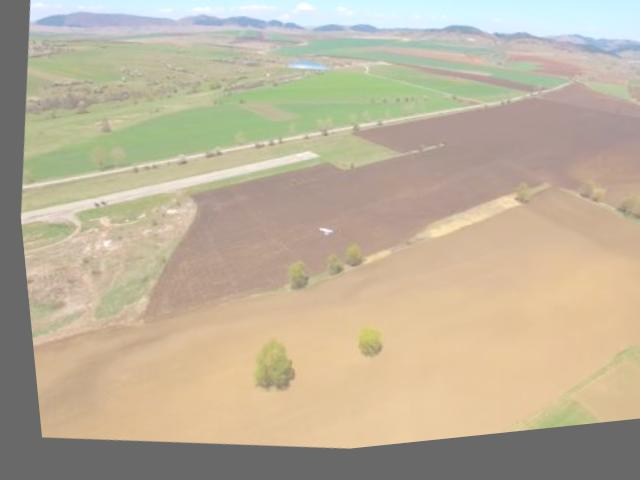uav: (309, 226, 335, 247)
